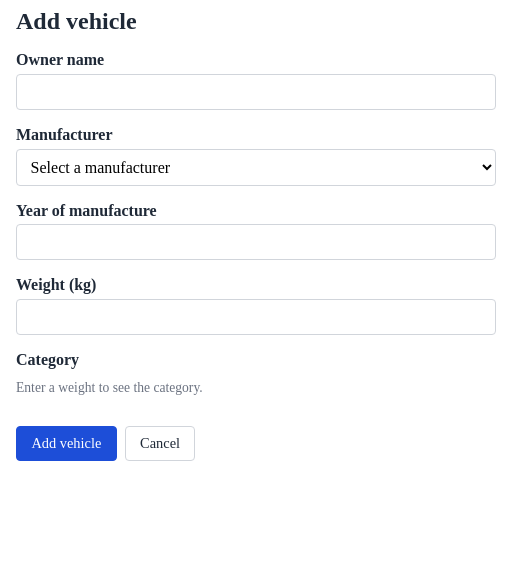
it: VehicleFormComponent › does not submit an invalid form and shows field errors
Step 1. Type "1.234" into the number field with id "weight" → {"x": 256, "y": 317}, box [16, 299, 496, 335]
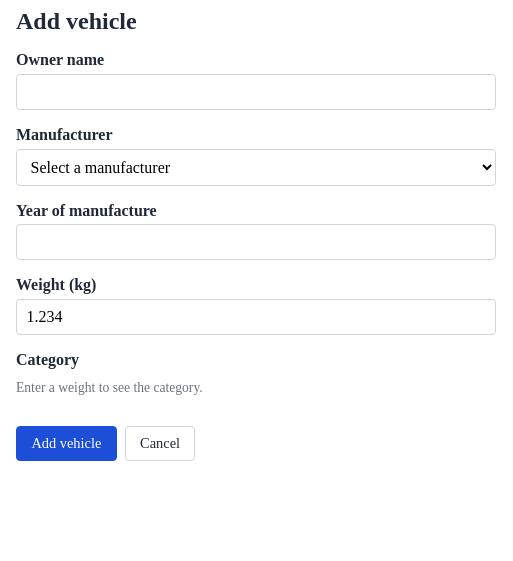
Step 2. Click the submit button → {"x": 66, "y": 443}, box [16, 426, 117, 461]
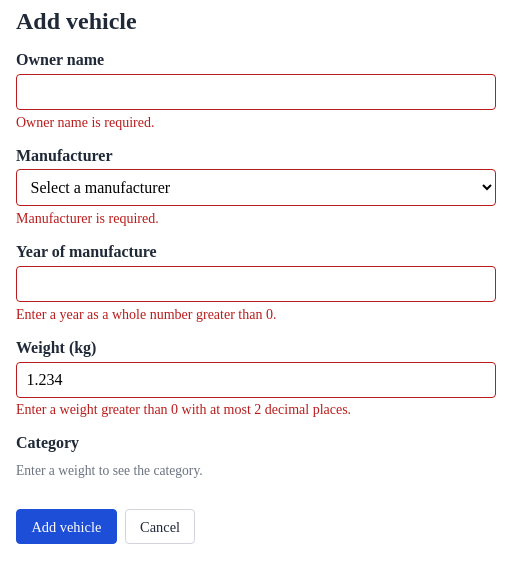
Now the text "Owner name is required." is shown, box [16, 115, 154, 130]
Now the text with id "weight-error" shows "at most 2 decimal places", box [16, 402, 351, 417]
